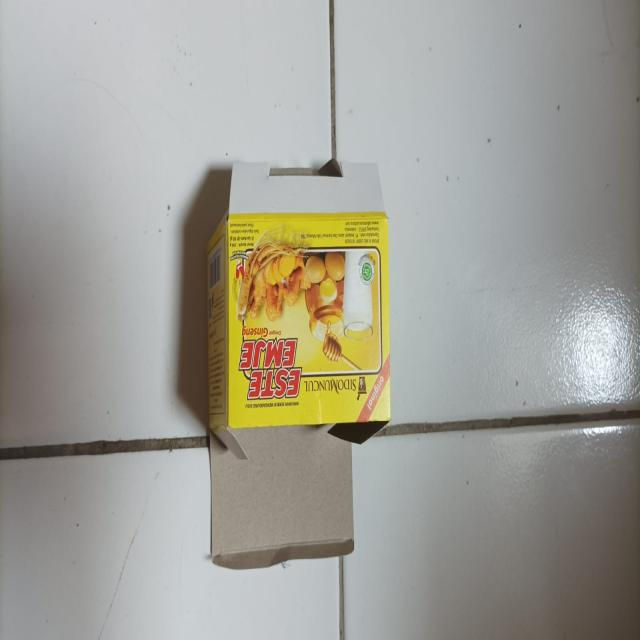Organik: (209, 160, 388, 568)
